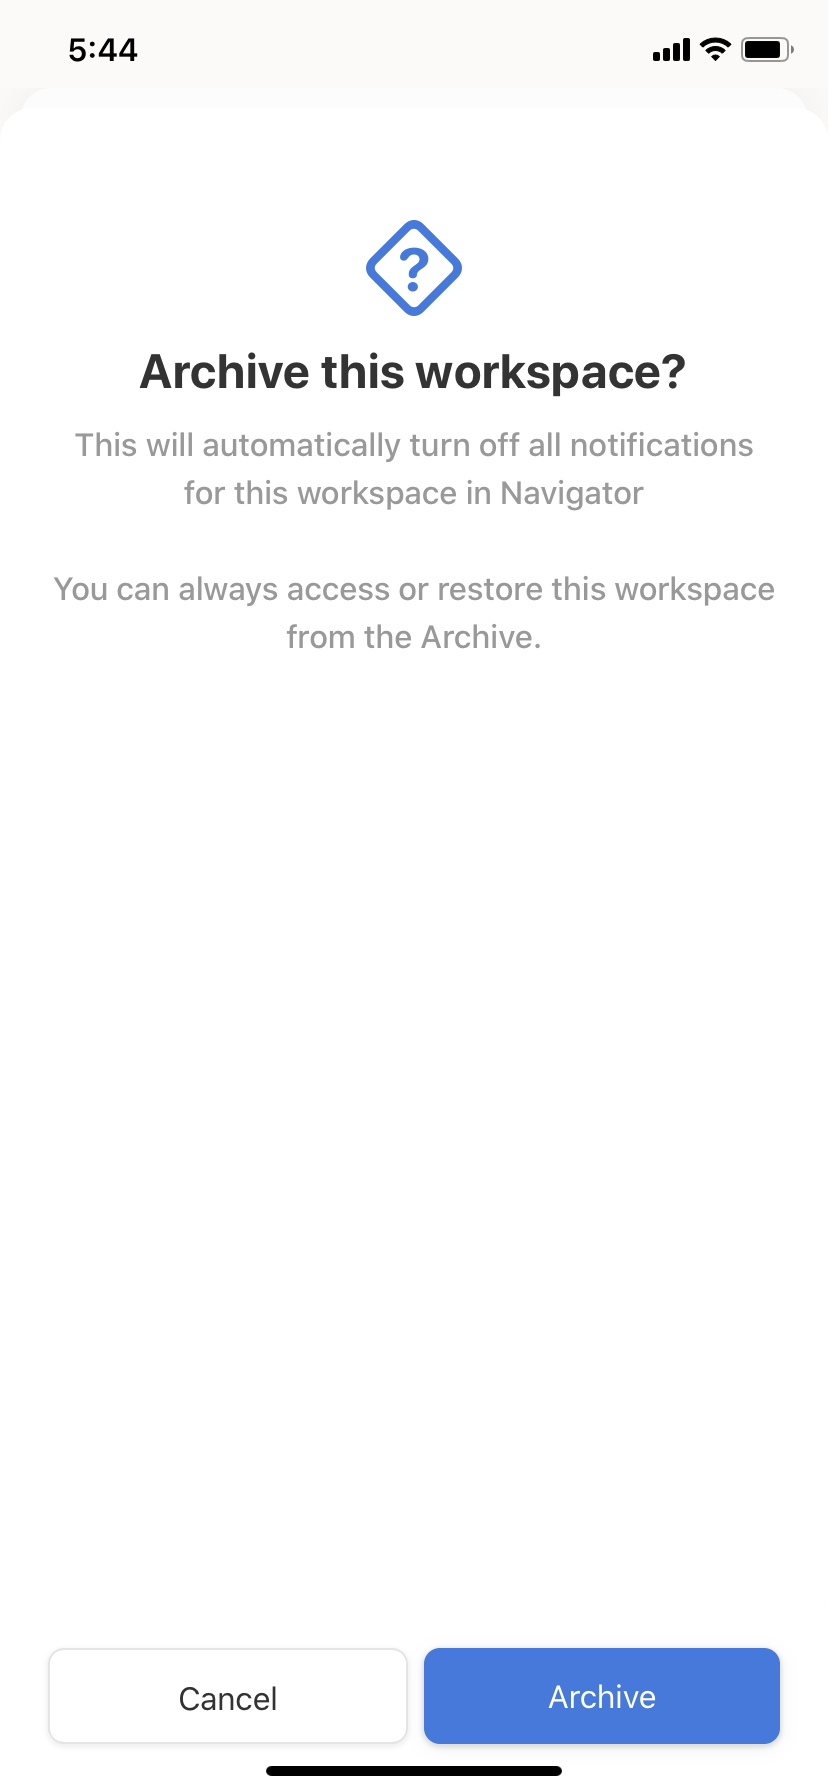Buttons: (39, 1635, 412, 1755), (417, 1639, 785, 1755)
